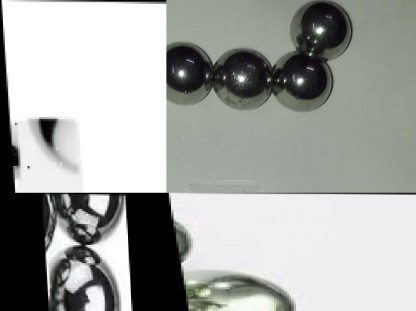ironball: (175, 262, 294, 311), (43, 243, 124, 311), (9, 121, 79, 193), (41, 193, 127, 249), (272, 48, 334, 114), (213, 48, 272, 112), (163, 41, 217, 109), (294, 0, 357, 58), (167, 206, 200, 282), (40, 193, 57, 268), (45, 291, 67, 311), (180, 297, 201, 308)
